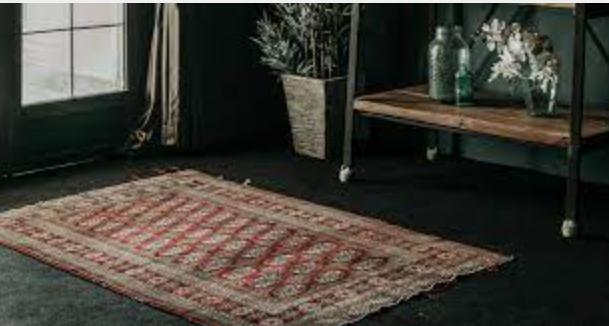carpet: (0, 124, 509, 326)
